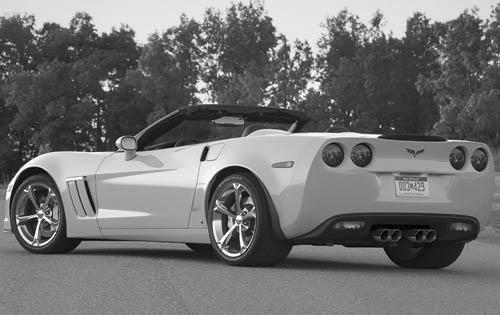car: (4, 106, 494, 274)
